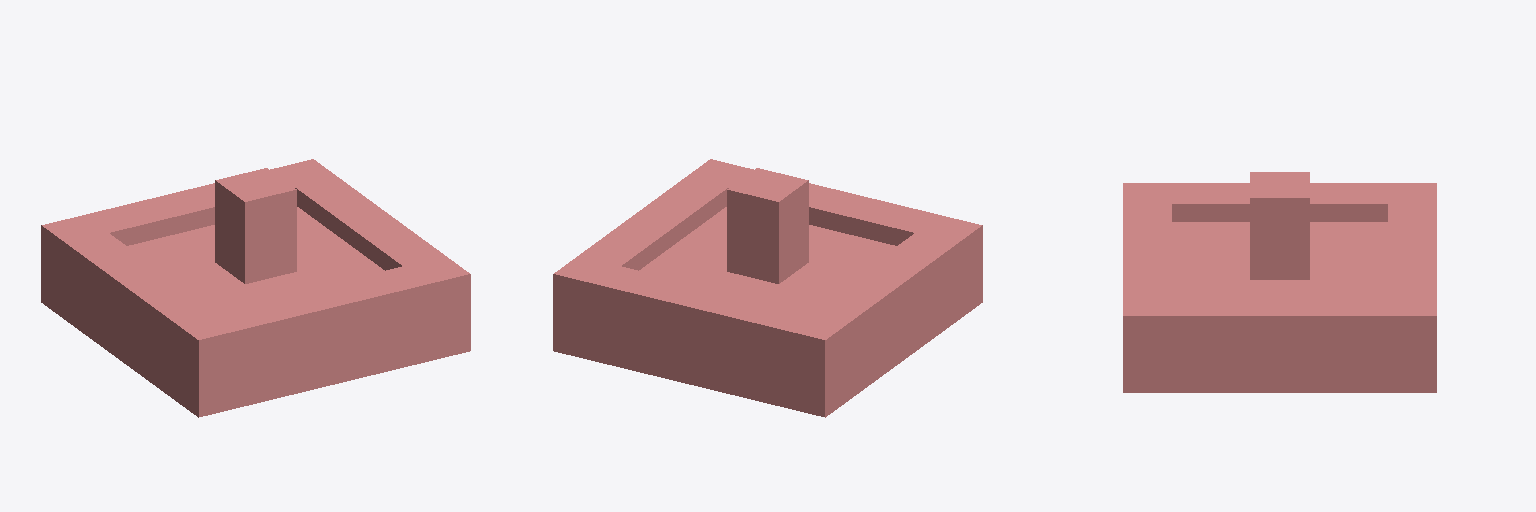
File: FedTurretStand.obj
3 renders of one model, left to right at view 1: azimuth 30°, elevation 25°; view 2: azimuth 150°, elevation 25°; view 3: azimuth 270°, elevation 25°, orthographic.
Visible parts, largest first — view 1: FedTurretStand; view 2: FedTurretStand; view 3: FedTurretStand.
Boxes of the visible parts, x1,y1,x2,y2 form: FedTurretStand: [41, 159, 470, 417]; FedTurretStand: [553, 159, 982, 417]; FedTurretStand: [1123, 172, 1436, 392].
Size of the model in its own units: 114 by 56.75 by 114.